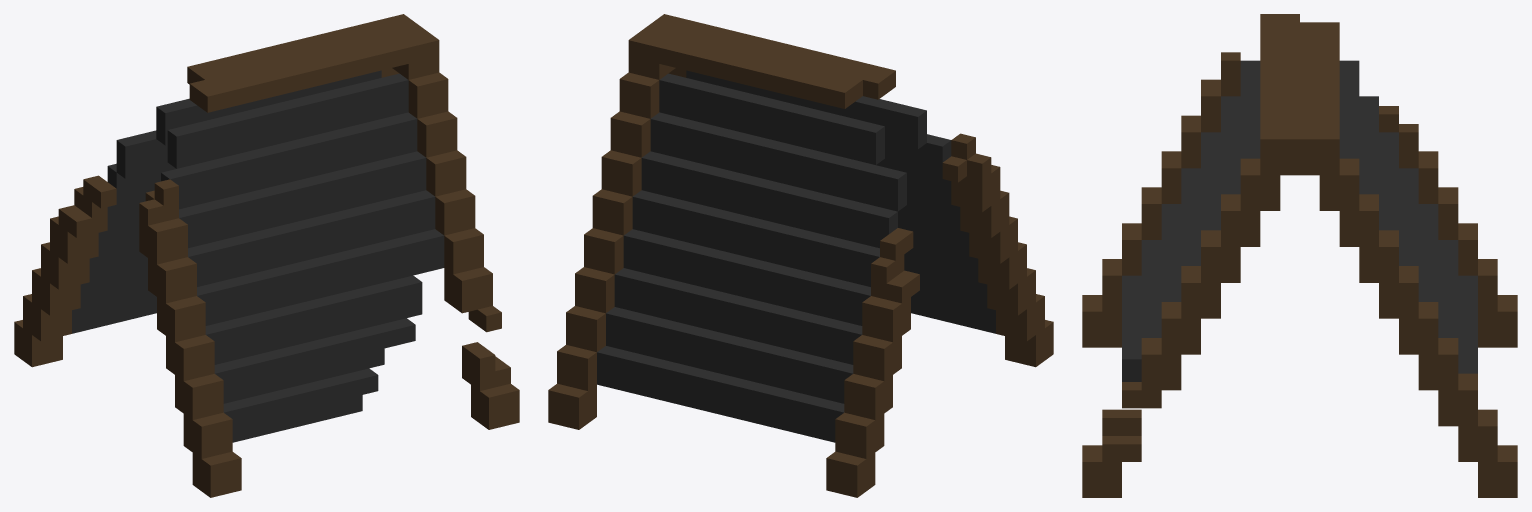
File: Background_A_deco_03.FBX
The picture shows the model from 3 angles, left to right: view 1: azimuth 30°, elevation 25°; view 2: azimuth 150°, elevation 25°; view 3: azimuth 270°, elevation 25°; orthographic projection. The views are drawn at different scales.
Parts seen in each view (by area): view 1: Load_A-9; view 2: Load_A-9; view 3: Load_A-9.
Part boxes in pixels (x1,y1,x2,y2): Load_A-9: (14, 14, 519, 497); Load_A-9: (548, 14, 1053, 497); Load_A-9: (1082, 14, 1517, 497).
Bounding box in the file's own units: 2 × 2 × 2.2.
Materials: 1 (1 with a texture image).
